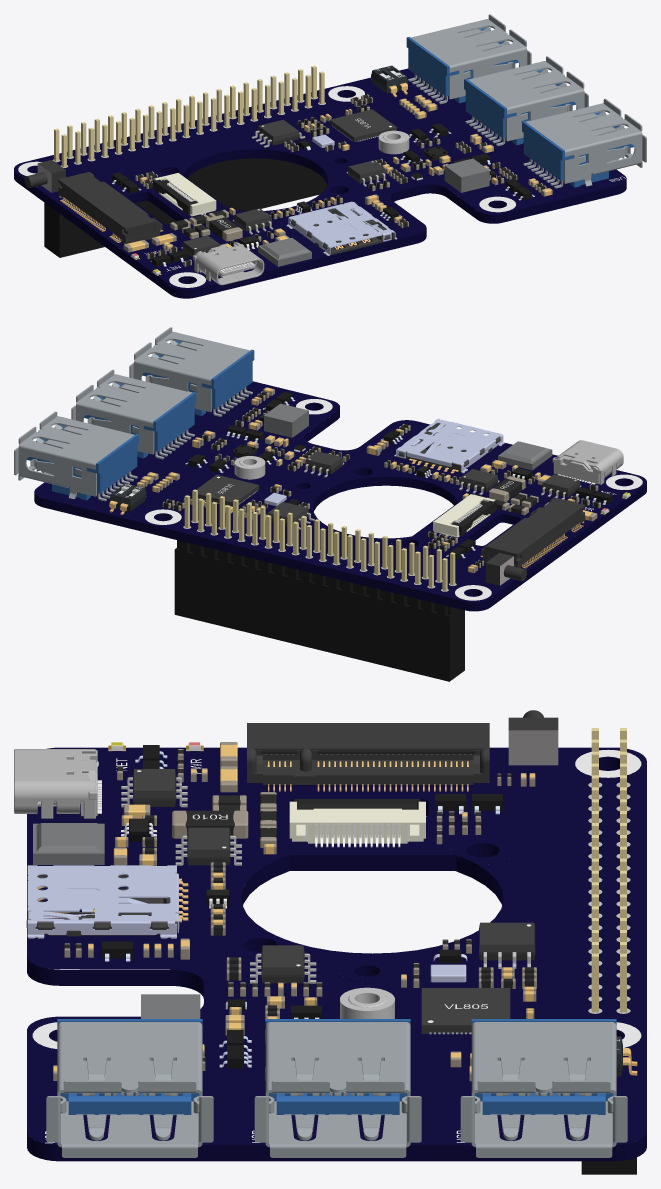
3 views of the same model, one above another, from view 1: azimuth 30°, elevation 25°; view 2: azimuth 150°, elevation 25°; view 3: azimuth 270°, elevation 25° (orthographic). The views are drawn at different scales.
Visible parts, largest first — view 1: SOLID, 40 pin header, Shielding (2), Shielding (1), Shielding, 2199119-139, SIM8066, USB C003, Housing (2), Housing, Housing (1), VL806 (+10 smaller); view 2: SOLID, 40 pin header, Shielding, Shielding (2), Shielding (1), 2199119-139, SIM8066, Housing, Housing (2), Housing (1), USB C003, VL806 (+10 smaller); view 3: SOLID, Shielding (1), Shielding, Shielding (2), 2199119-139, SIM8066, USB C003, 40 pin header, FPC-022, VL806, Housing (2), Housing (+11 smaller).
Part boxes in pixels (x1,y1,x2,y2): SOLID: (14, 68, 626, 298); 40 pin header: (44, 65, 327, 257); Shielding (2): (526, 98, 646, 186); Shielding (1): (468, 56, 588, 141); Shielding: (411, 14, 531, 99); 2199119-139: (58, 172, 162, 243); SIM8066: (286, 201, 397, 255); USB C003: (194, 242, 264, 285); Housing (2): (522, 112, 633, 187); Housing: (406, 27, 518, 103); Housing (1): (464, 69, 575, 145); VL806: (329, 109, 396, 142); SOLID: (34, 381, 646, 611); 40 pin header: (174, 489, 464, 681); Shielding: (14, 411, 134, 499); Shielding (2): (129, 327, 249, 412); Shielding (1): (71, 369, 191, 454); 2199119-139: (481, 497, 585, 567); SIM8066: (394, 418, 504, 473); Housing: (27, 425, 138, 500); Housing (2): (142, 340, 254, 415); Housing (1): (84, 383, 196, 458); USB C003: (553, 440, 623, 484); VL806: (192, 474, 259, 506); SOLID: (27, 747, 646, 1161); Shielding (1): (254, 1022, 421, 1157); Shielding: (460, 1022, 627, 1157); Shielding (2): (46, 1022, 213, 1157); 2199119-139: (247, 723, 489, 784); SIM8066: (27, 865, 178, 938); USB C003: (14, 749, 95, 818); 40 pin header: (581, 728, 636, 1174); FPC-022: (313, 799, 420, 847); VL806: (421, 988, 510, 1033); Housing (2): (57, 1019, 202, 1115); Housing: (471, 1019, 616, 1115).
Size of the model in its own units: 0.0906 by 0.0235 by 0.0572.
